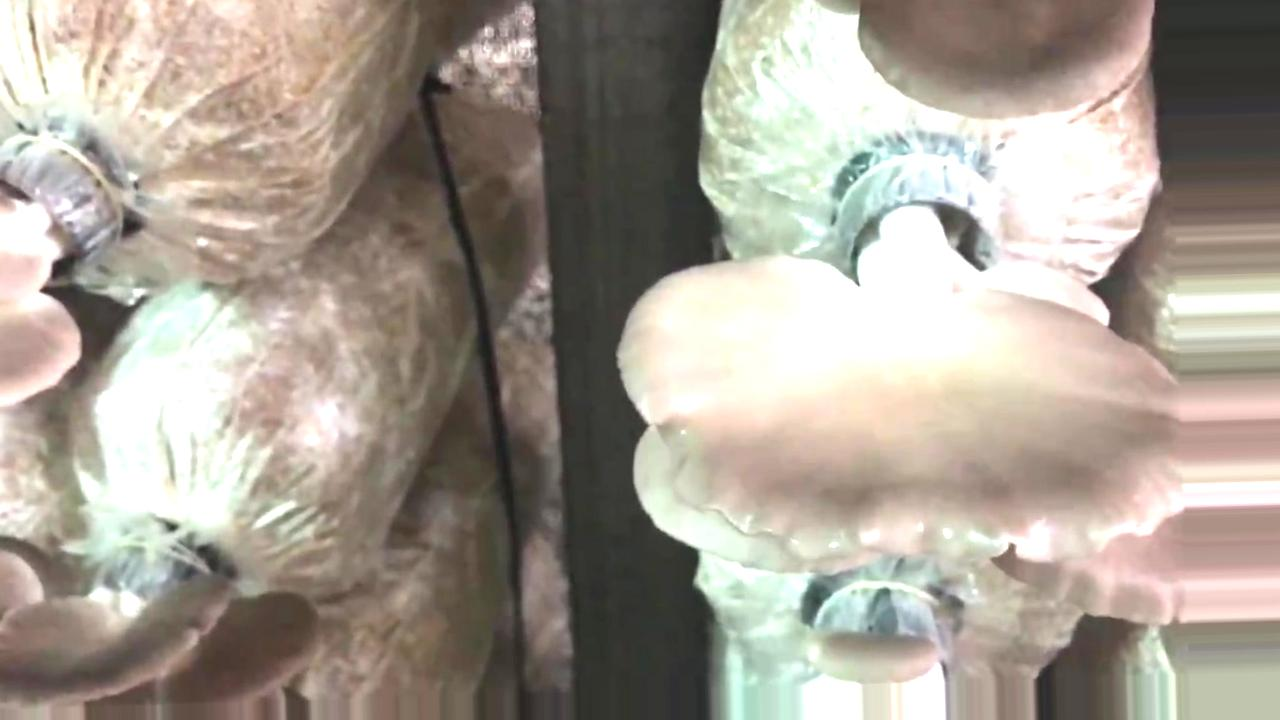nam: (617, 160, 1192, 592), (1, 524, 324, 717), (822, 1, 1156, 123), (1, 121, 128, 404)
